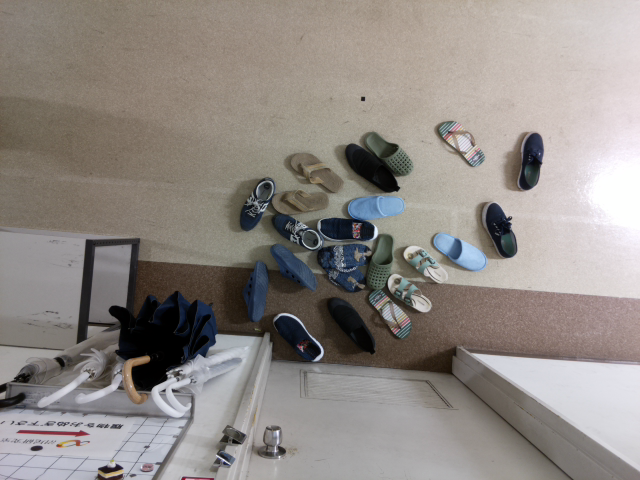Copy of Copy of Copy of Copy of Copy of Copy of Copy of Copy of Copy of Copy of: (318, 289, 382, 358), (282, 140, 349, 196), (364, 285, 421, 346), (311, 243, 370, 298), (263, 203, 326, 251), (383, 267, 442, 317), (397, 238, 456, 287), (361, 227, 401, 296), (271, 179, 336, 220), (337, 191, 412, 226), (310, 211, 384, 246), (316, 237, 381, 274)
Copy of Copy of Copy of Copy of Copy of Copy of Copy of Copy of Copy of shoe: (342, 134, 401, 199)
Copy of Copy of Copy of Copy of Copy of Copy of Copy of Copy of shoe: (359, 118, 419, 183)
Copy of Copy of Copy of Copy of Copy of Copy of Copy of shoe: (266, 238, 325, 303)
Copy of Copy of Copy of Copy of Copy of Copy of shoe: (270, 302, 329, 366)
Copy of Copy of Copy of Copy of Copy of shoe: (237, 257, 283, 325)
Copy of Copy of Copy of Copy of Copy of umbrella: (1, 324, 118, 409)
Copy of Copy of Copy of Copy of shoe: (231, 170, 279, 235)
Copy of Copy of Copy of Copy of umbrella: (30, 327, 151, 411)
Copy of Copy of Copy of shoe: (424, 113, 495, 174)
Copy of Copy of Copy of umbrella: (69, 357, 139, 414)
Copy of Copy of shoe: (427, 222, 500, 276)
Copy of Copy of umbrella: (106, 294, 218, 407)
Copy of shoe: (477, 194, 526, 260)
Copy of umbrella: (166, 351, 254, 416)
shoe: (510, 126, 547, 192)
umbrella: (142, 338, 256, 419)
